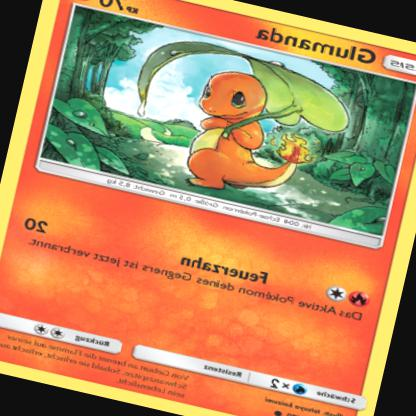Charmander: (180, 65, 318, 210)
